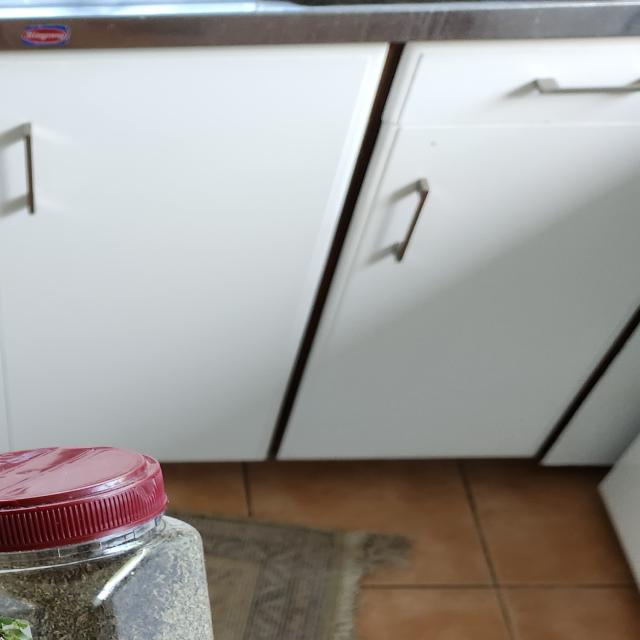oregano: (0, 443, 225, 640)
